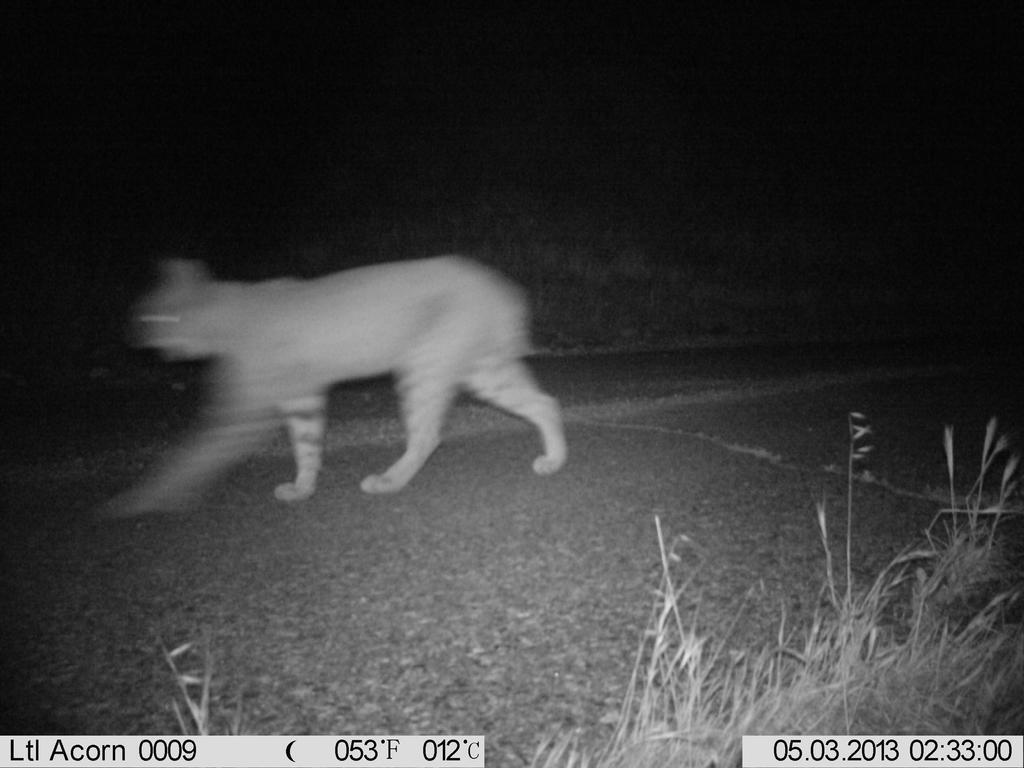bobcat: (97, 251, 574, 533)
